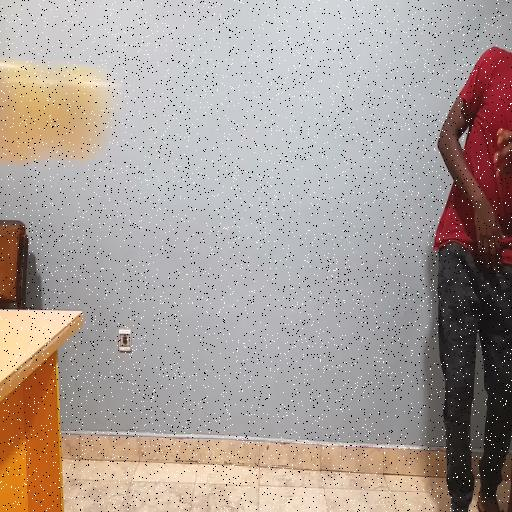plastic-ball: (0, 64, 113, 161)
